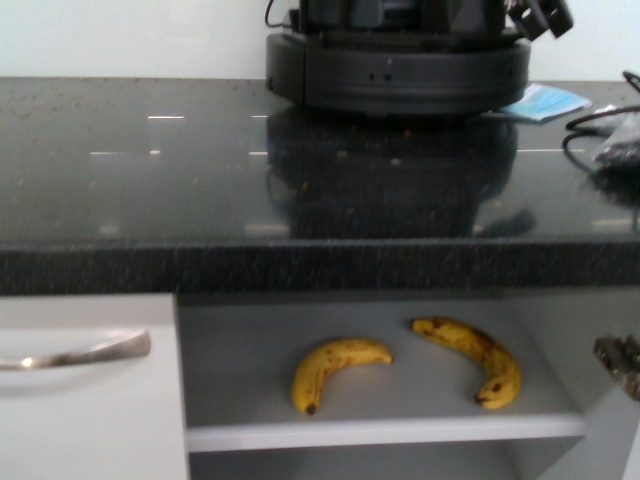banana: (402, 314, 525, 412), (283, 334, 394, 416)
